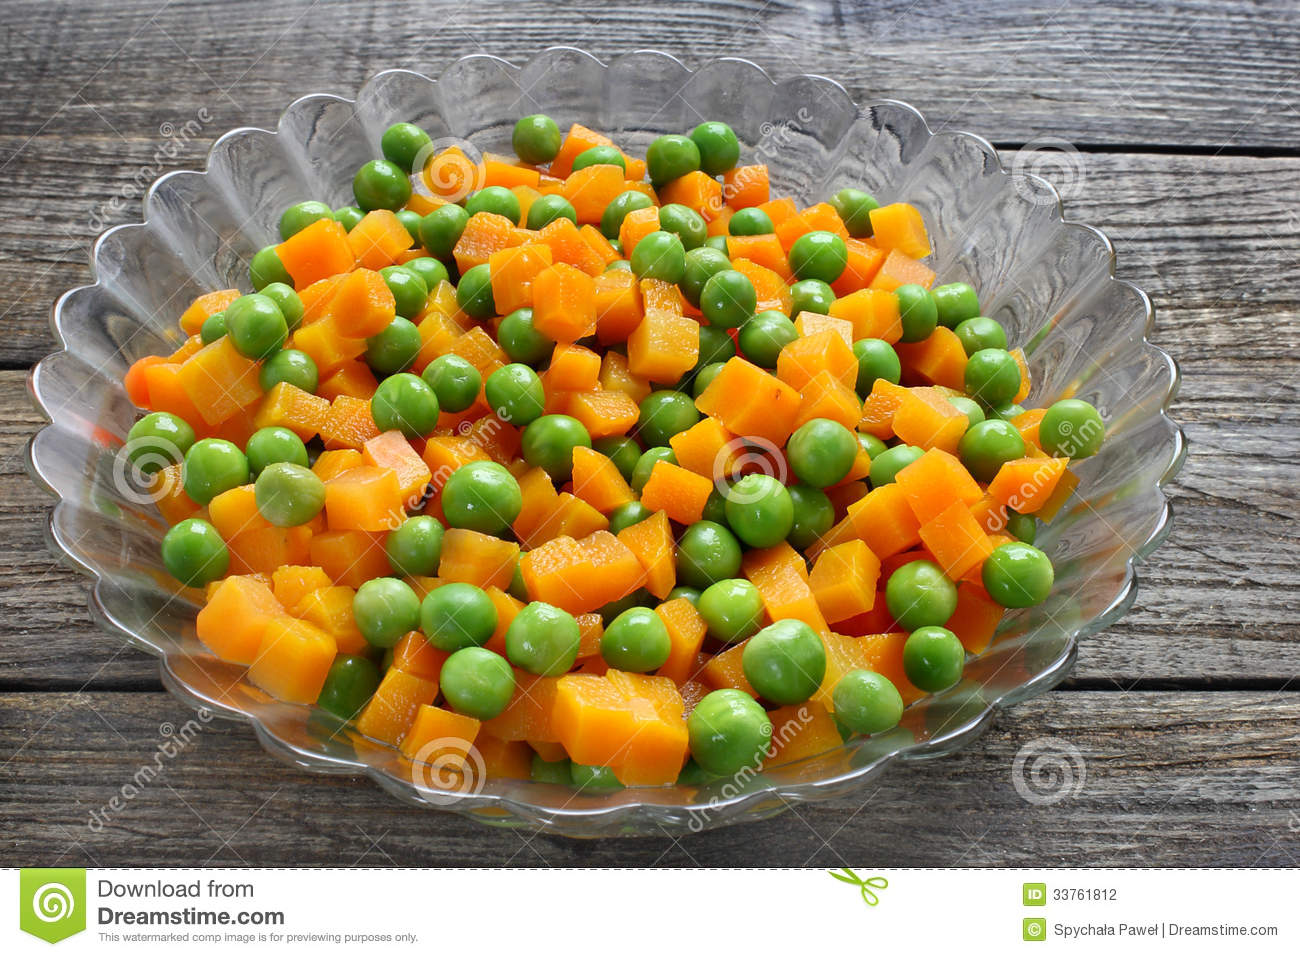boiled peas: (191, 117, 1009, 771)
